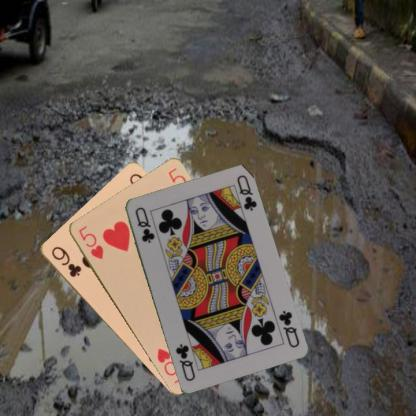5h: (75, 223, 105, 261)
9c: (48, 244, 83, 278)
Qc: (276, 307, 300, 349), (132, 204, 155, 244)
